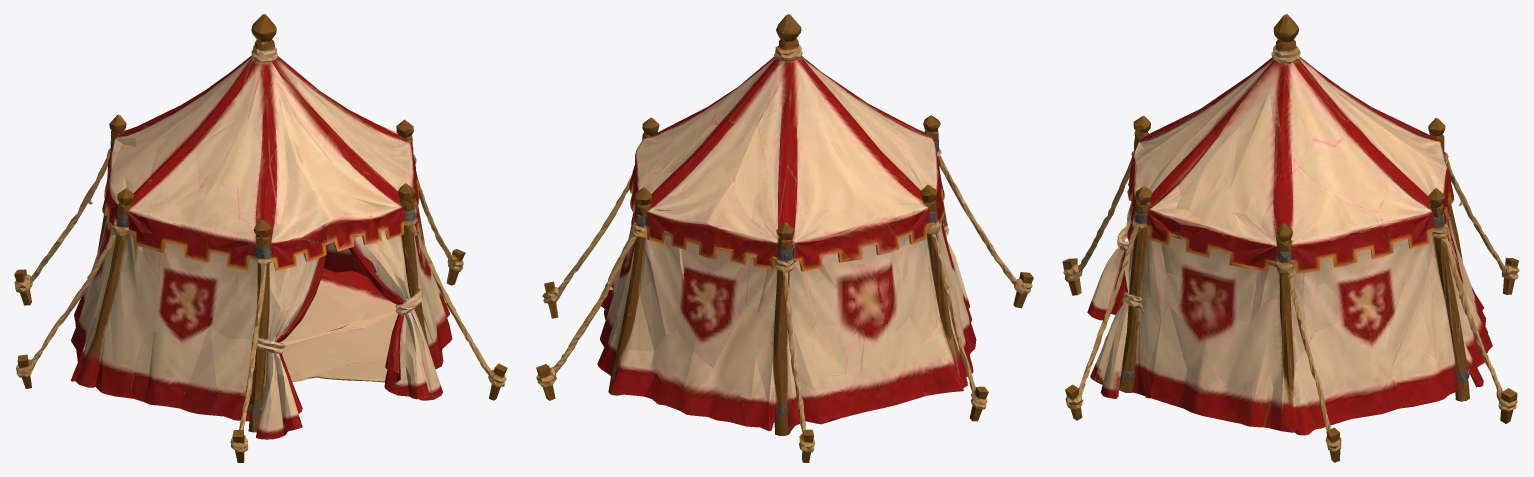
Rendered from prop_tent.glb.
3 renders of one model, left to right at view 1: azimuth 30°, elevation 25°; view 2: azimuth 150°, elevation 25°; view 3: azimuth 270°, elevation 25°, orthographic.
Visible parts, largest first — view 1: output_unwrapped; view 2: output_unwrapped; view 3: output_unwrapped.
Part boxes in pixels (<box>): output_unwrapped: <box>14,14,507,462</box>; output_unwrapped: <box>536,14,1033,462</box>; output_unwrapped: <box>1062,14,1519,462</box>.
Bounding box in the file's own units: 1.9 × 1.38 × 1.67.
Materials: 1 (1 with a texture image).
